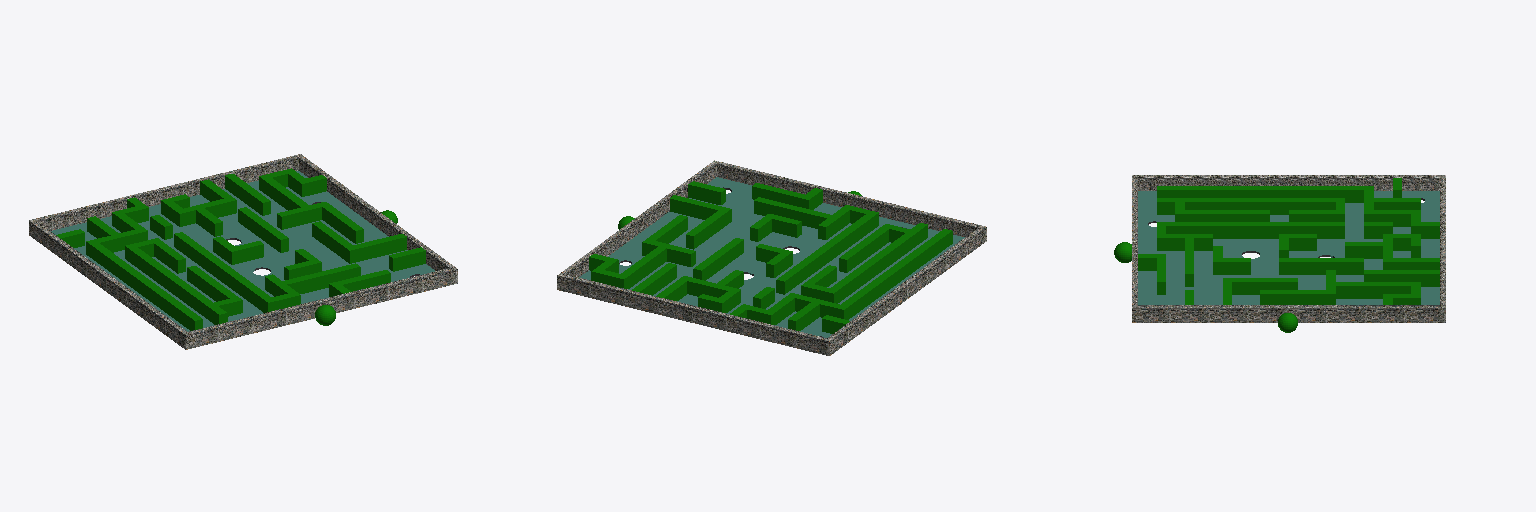
3 renders of one model, left to right at view 1: azimuth 30°, elevation 25°; view 2: azimuth 150°, elevation 25°; view 3: azimuth 270°, elevation 25°, orthographic.
Parts seen in each view (by area): view 1: Cube.001; view 2: Cube.001; view 3: Cube.001.
Part boxes in pixels (left/top/right/bottom): Cube.001: left=29, top=154, right=457, bottom=349; Cube.001: left=557, top=160, right=986, bottom=355; Cube.001: left=1114, top=175, right=1445, bottom=332.
Size of the model in its own units: 7.49 by 0.5074 by 7.44.
Materials: 5 (1 with a texture image).